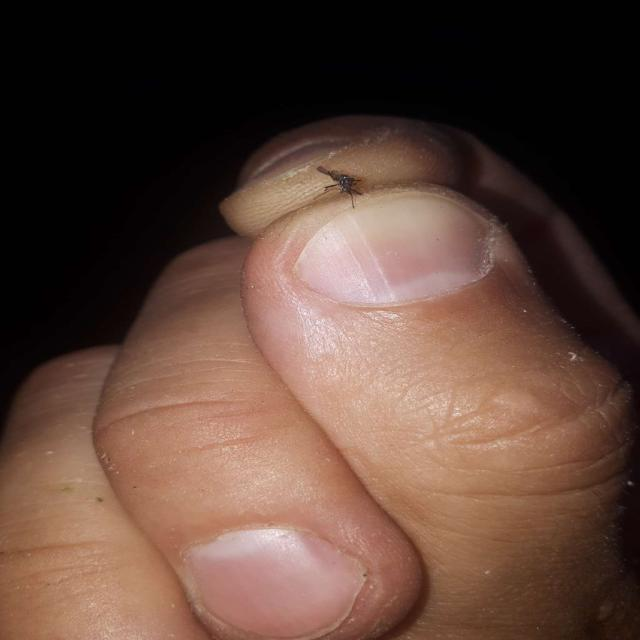albopictus: (306, 164, 374, 211)
